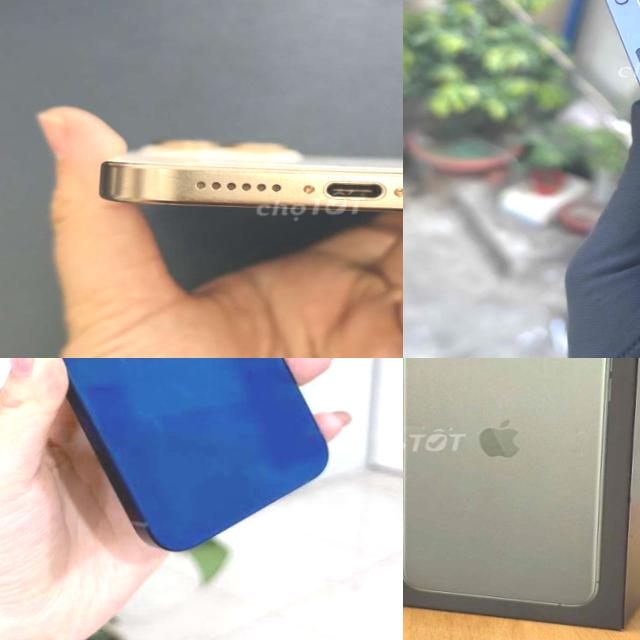gen_12_13: (0, 358, 330, 555)
gen_14: (554, 0, 640, 292)
gen_16: (99, 139, 403, 213)
